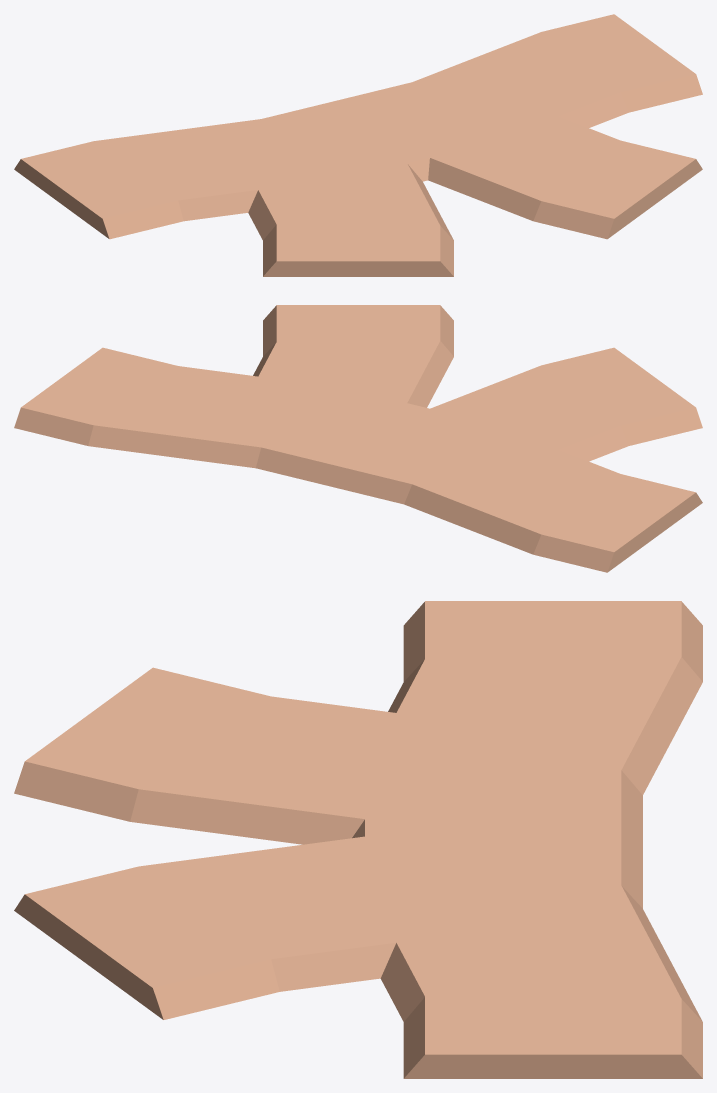
File: path_intersectionH.glb
3 views of the same model, one above another, from view 1: azimuth 30°, elevation 25°; view 2: azimuth 150°, elevation 25°; view 3: azimuth 270°, elevation 25° (orthographic). The views are drawn at different scales.
Parts seen in each view (by area): view 1: path_intersectionH; view 2: path_intersectionH; view 3: path_intersectionH.
Boxes of the visible parts, x1,y1,x2,y2 form: path_intersectionH: (14,14,702,276); path_intersectionH: (14,305,702,572); path_intersectionH: (14,601,702,1078).
Size of the model in its own units: 1 by 0.025 by 0.6423.
